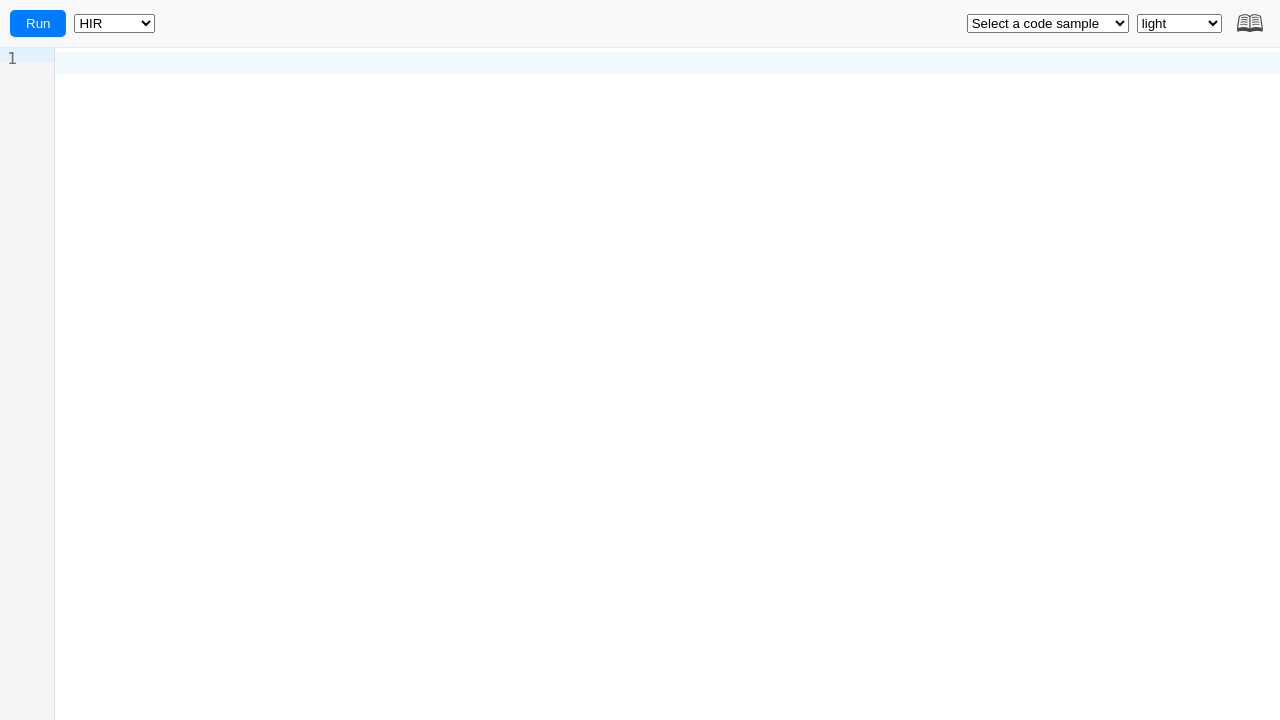
Test: App › shows Wasm generation errors in the IR pane
Select "Wasm" in the 1st dropdown at coordinates (115, 24), box [74, 14, 156, 33]
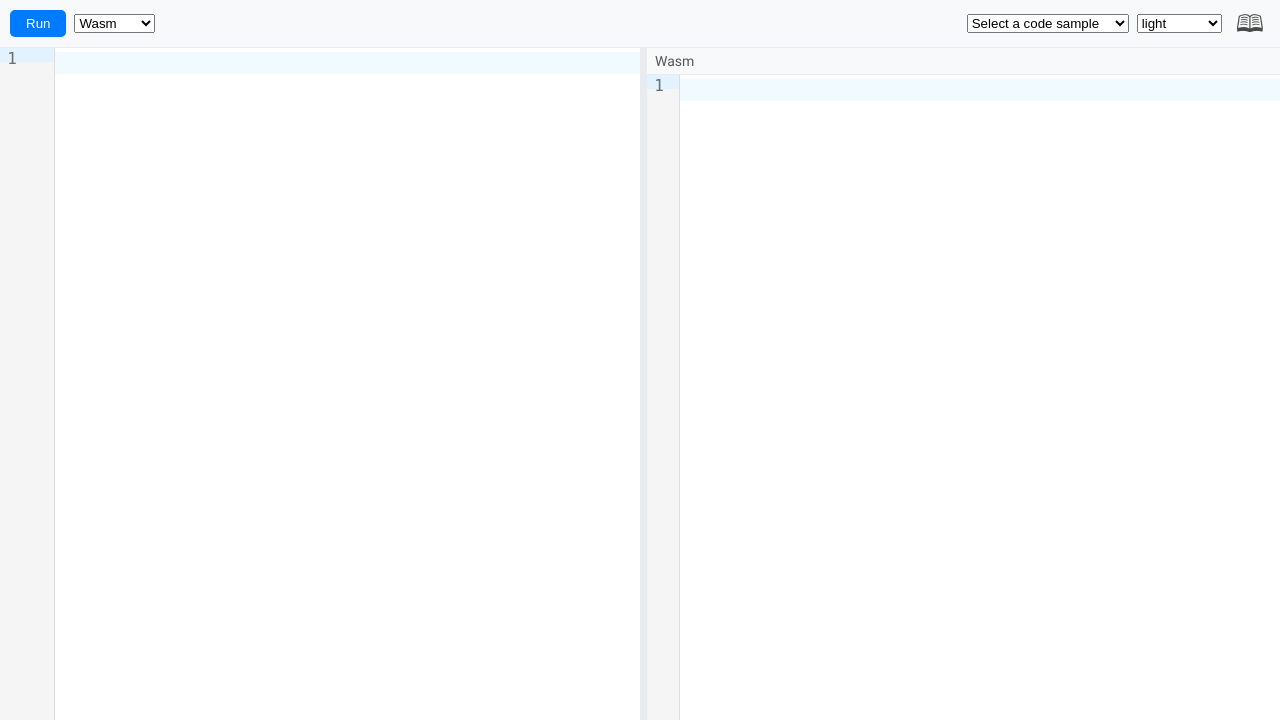
Select "Factorial" in the 2nd dropdown at coordinates (1048, 24), box [967, 14, 1129, 33]
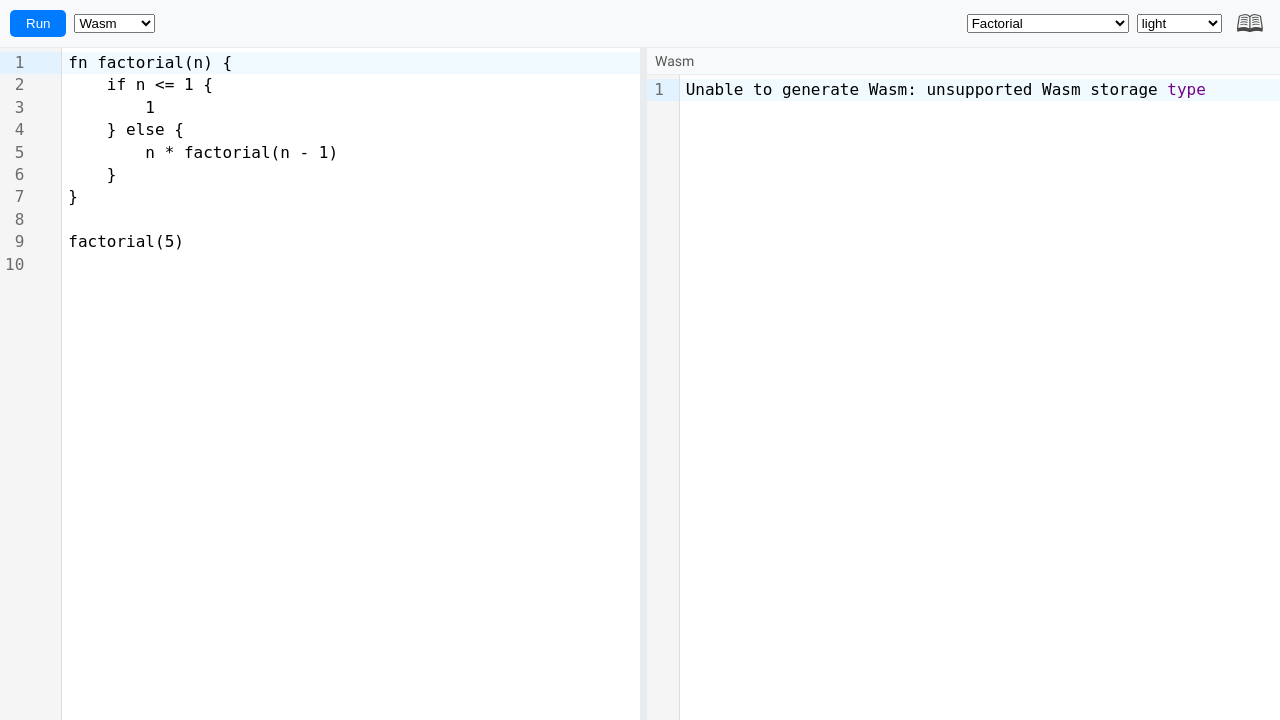
Result: the element showing "Unable to generate Wasm: unsupported Wasm storage type" is shown at [680, 79, 1279, 101]
